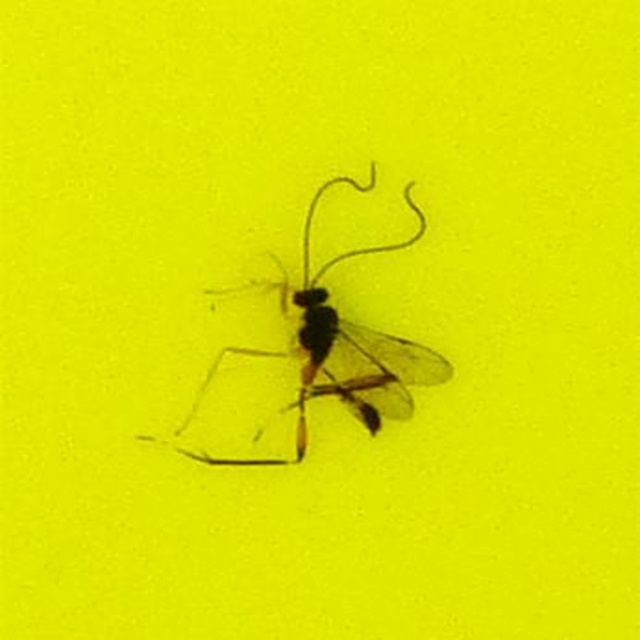Hymenoptera: (185, 167, 455, 473)
